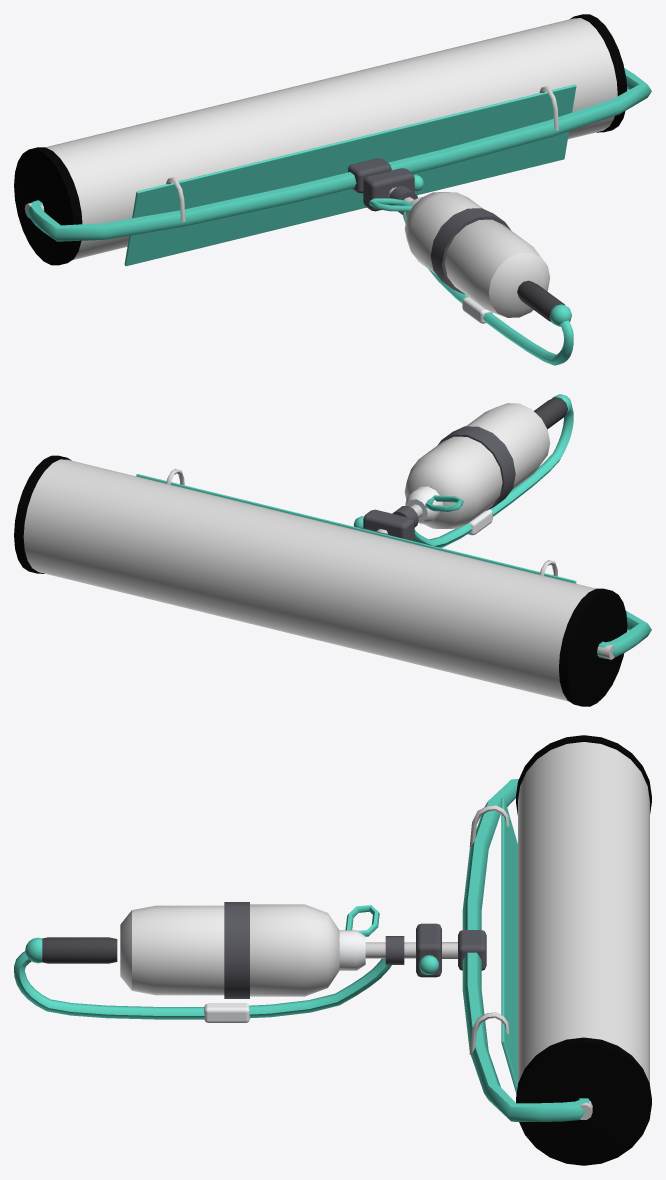
The model's file is W_LightRoller.fbx.
The picture shows the model from 3 angles, top to bottom: view 1: azimuth 30°, elevation 25°; view 2: azimuth 150°, elevation 25°; view 3: azimuth 270°, elevation 25°; orthographic projection. The views are drawn at different scales.
Parts seen in each view (by area): view 1: LightRoller_Body, LightRoller_Drum; view 2: LightRoller_Drum, LightRoller_Body; view 3: LightRoller_Drum, LightRoller_Body.
Boxes of the visible parts, box(x1,y1,x2,y2) form: LightRoller_Body: box(24, 68, 651, 365); LightRoller_Drum: box(14, 14, 627, 265); LightRoller_Drum: box(14, 455, 627, 706); LightRoller_Body: box(136, 394, 651, 659); LightRoller_Drum: box(516, 735, 651, 1165); LightRoller_Body: box(14, 779, 592, 1121).
Bounding box in the file's own units: 2.73 × 0.506 × 2.21.
